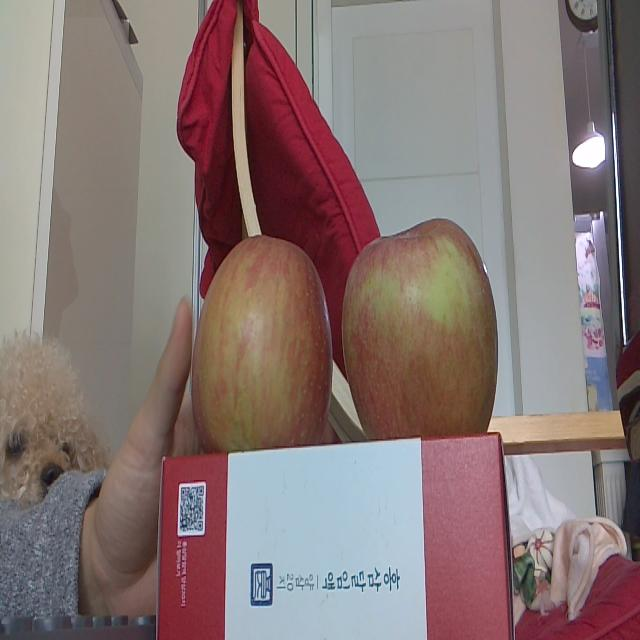apple: (342, 218, 502, 442), (190, 233, 334, 458)
